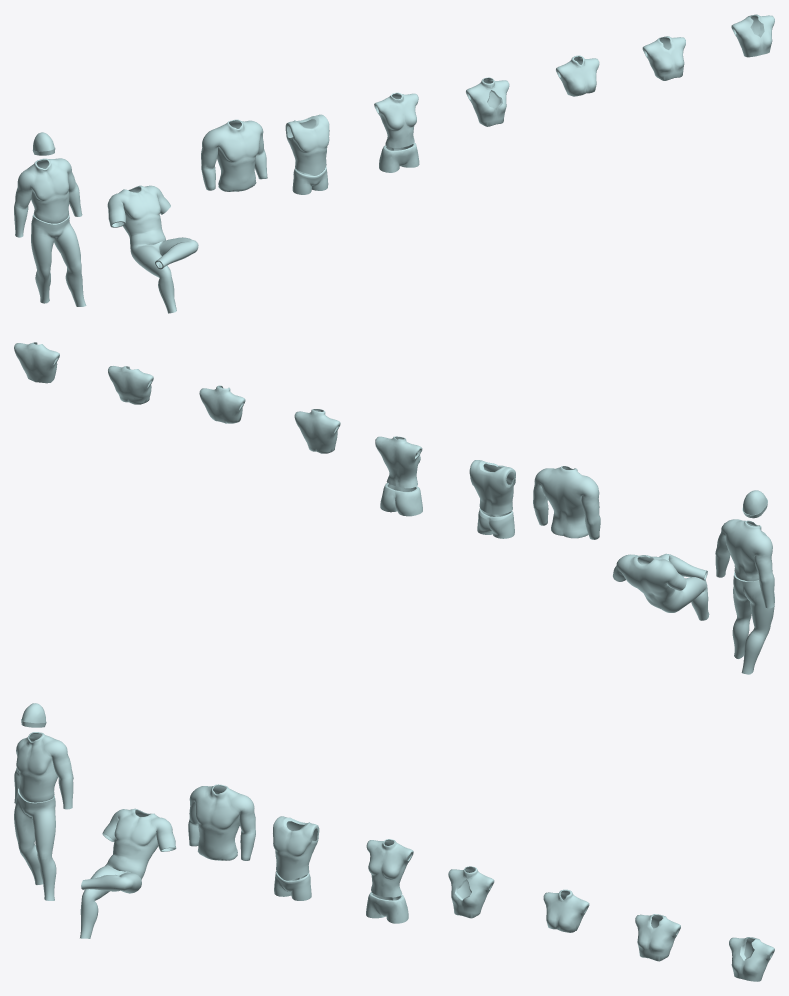
The model's file is Clothes_mannequins.fbx.
3 views of the same model, one above another, from view 1: azimuth 30°, elevation 25°; view 2: azimuth 150°, elevation 25°; view 3: azimuth 330°, elevation 25° (orthographic). The views are drawn at different scales.
Parts seen in each view (by area): view 1: Clothes_Mannequin_3_1, Clothes_Mannequin_3_3, Clothes_Mannequin_3_2, Clothes_Mannequin_2_1, Clothes_Mannequin_2_2, Clothes_Mannequin_1_1, Clothes_Mannequin_1_2, Clothes_Mannequin_1_3, Clothes_Mannequin_1_4; view 2: Clothes_Mannequin_3_1, Clothes_Mannequin_3_3, Clothes_Mannequin_3_2, Clothes_Mannequin_2_2, Clothes_Mannequin_2_1, Clothes_Mannequin_1_1, Clothes_Mannequin_1_3, Clothes_Mannequin_1_2, Clothes_Mannequin_1_4; view 3: Clothes_Mannequin_3_1, Clothes_Mannequin_3_3, Clothes_Mannequin_3_2, Clothes_Mannequin_2_1, Clothes_Mannequin_2_2, Clothes_Mannequin_1_1, Clothes_Mannequin_1_2, Clothes_Mannequin_1_3, Clothes_Mannequin_1_4.
Boxes of the visible parts, x1,y1,x2,y2 form: Clothes_Mannequin_3_1: (14, 132, 86, 306); Clothes_Mannequin_3_3: (107, 185, 198, 313); Clothes_Mannequin_3_2: (201, 119, 267, 191); Clothes_Mannequin_2_1: (285, 114, 329, 194); Clothes_Mannequin_2_2: (374, 92, 419, 172); Clothes_Mannequin_1_1: (466, 77, 509, 126); Clothes_Mannequin_1_2: (642, 36, 685, 80); Clothes_Mannequin_1_3: (731, 14, 774, 57); Clothes_Mannequin_1_4: (556, 55, 599, 96); Clothes_Mannequin_3_1: (715, 490, 774, 674); Clothes_Mannequin_3_3: (613, 553, 709, 620); Clothes_Mannequin_3_2: (533, 466, 600, 539); Clothes_Mannequin_2_2: (375, 436, 422, 516); Clothes_Mannequin_2_1: (469, 460, 515, 538); Clothes_Mannequin_1_1: (294, 409, 340, 453); Clothes_Mannequin_1_3: (14, 342, 59, 383); Clothes_Mannequin_1_2: (108, 366, 153, 404); Clothes_Mannequin_1_4: (199, 385, 245, 423); Clothes_Mannequin_3_1: (14, 703, 73, 900); Clothes_Mannequin_3_3: (80, 808, 176, 938); Clothes_Mannequin_3_2: (188, 784, 255, 860); Clothes_Mannequin_2_1: (273, 816, 319, 900); Clothes_Mannequin_2_2: (366, 839, 413, 923); Clothes_Mannequin_1_1: (448, 866, 494, 918); Clothes_Mannequin_1_2: (635, 914, 680, 961); Clothes_Mannequin_1_3: (729, 937, 774, 981); Clothes_Mannequin_1_4: (543, 889, 589, 932).
Size of the model in its own units: 767 by 171 by 99.22.
